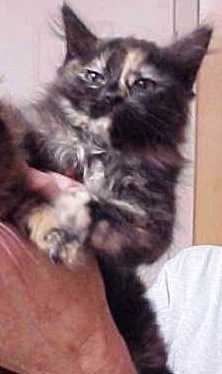Cat: (28, 3, 213, 273)
